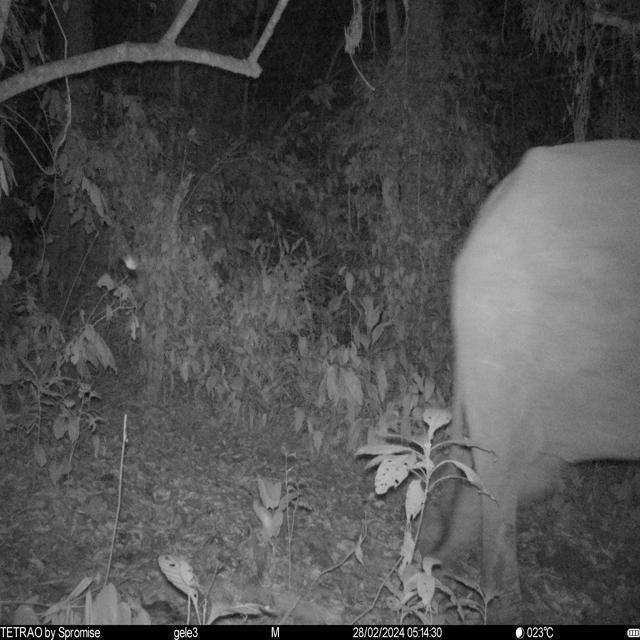elephant: (431, 142, 640, 627)
